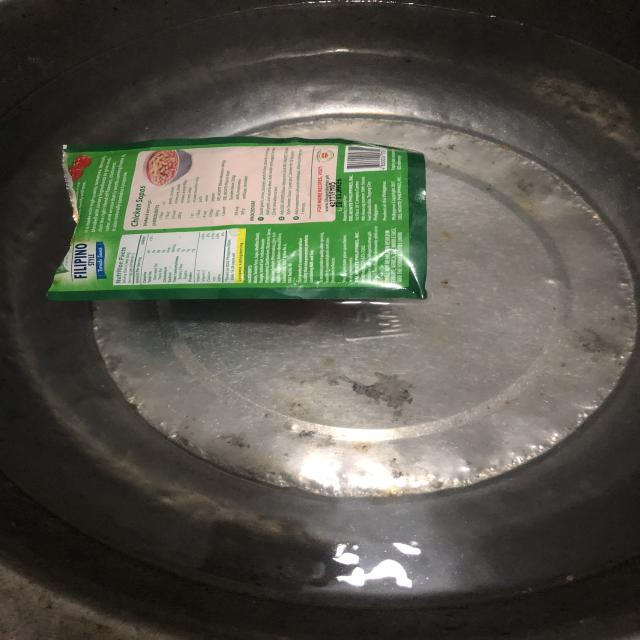Plastic Pouch: (38, 137, 430, 317)
